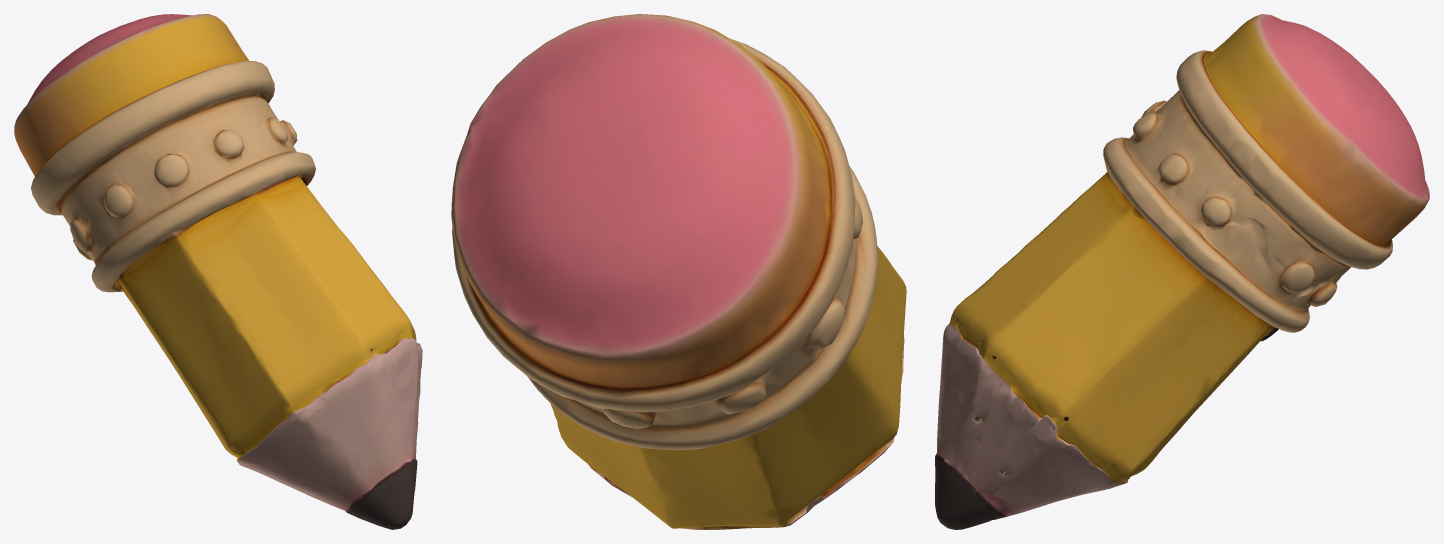
The model's file is pencil_stub.glb.
The picture shows the model from 3 angles, left to right: view 1: azimuth 30°, elevation 25°; view 2: azimuth 150°, elevation 25°; view 3: azimuth 270°, elevation 25°; orthographic projection. The views are drawn at different scales.
Visible parts, largest first — view 1: tripo_node_fa29828f-73a5-4c60-b304-f7cd0c792438; view 2: tripo_node_fa29828f-73a5-4c60-b304-f7cd0c792438; view 3: tripo_node_fa29828f-73a5-4c60-b304-f7cd0c792438.
Part boxes in pixels (x1,y1,x2,y2): tripo_node_fa29828f-73a5-4c60-b304-f7cd0c792438: [14, 14, 422, 529]; tripo_node_fa29828f-73a5-4c60-b304-f7cd0c792438: [451, 14, 906, 529]; tripo_node_fa29828f-73a5-4c60-b304-f7cd0c792438: [935, 14, 1429, 529].
Size of the model in its own units: 0.6663 by 0.9806 by 0.9682.
1 material, 1 textured.
